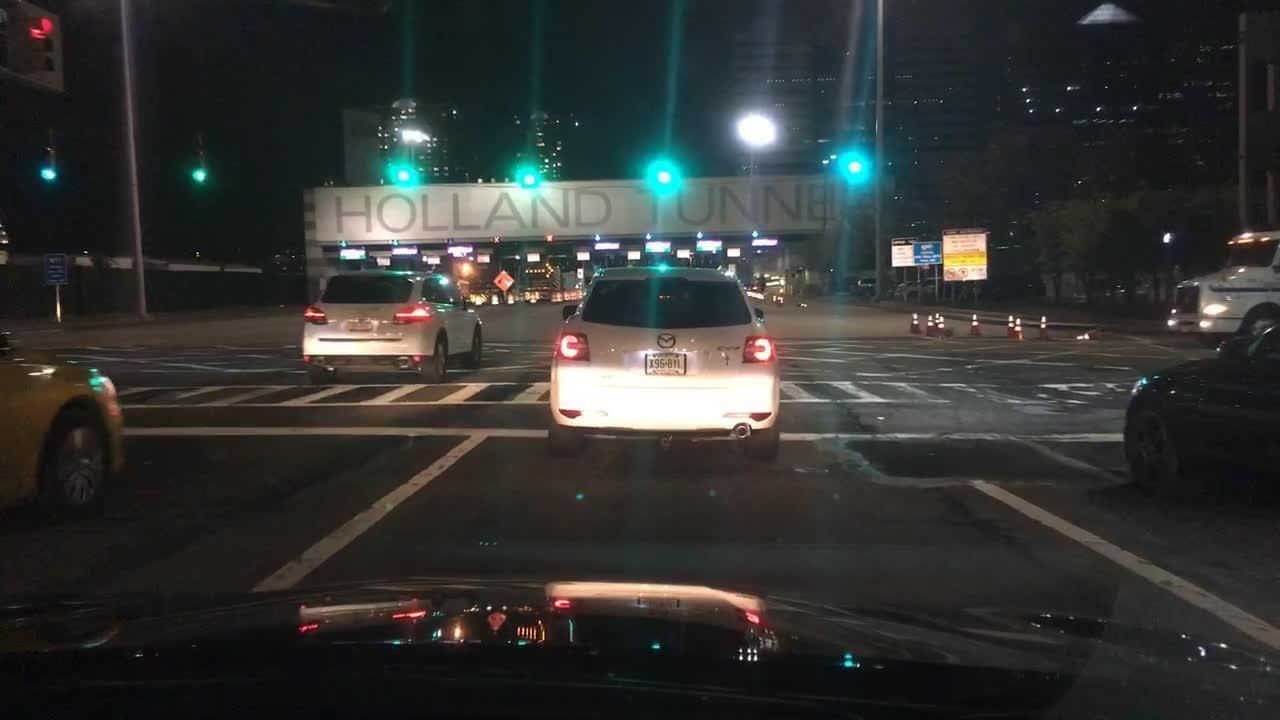Mazda: (649, 329, 684, 350)
